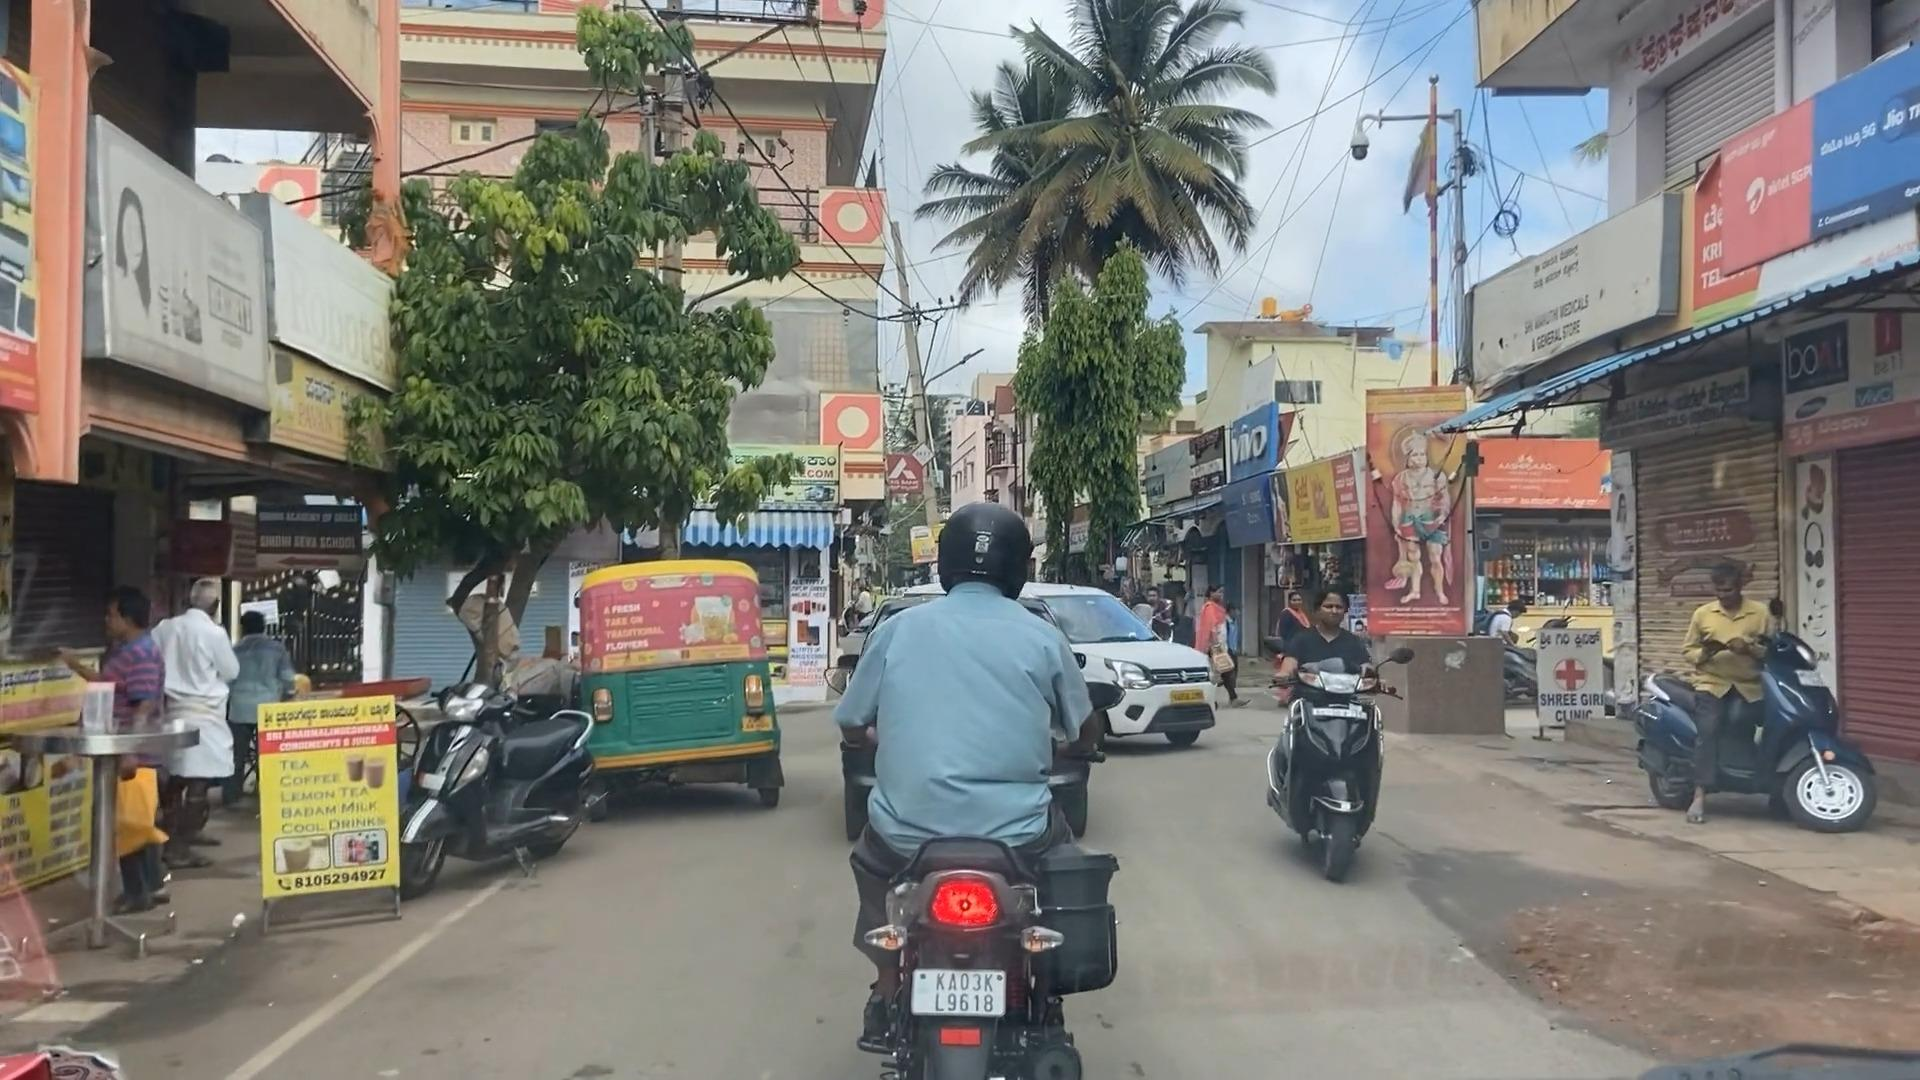LMV: (831, 502, 1108, 1080), (574, 564, 790, 814), (1270, 592, 1389, 872)
RoadDamages: (1497, 848, 1920, 1077)
